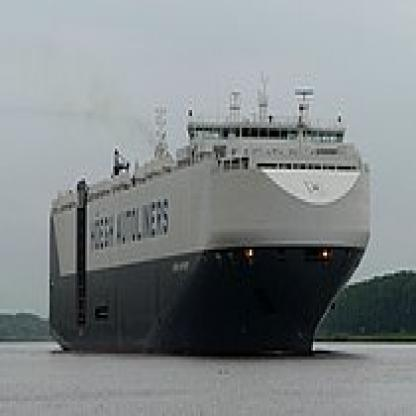Tanker: (40, 163, 366, 353)
